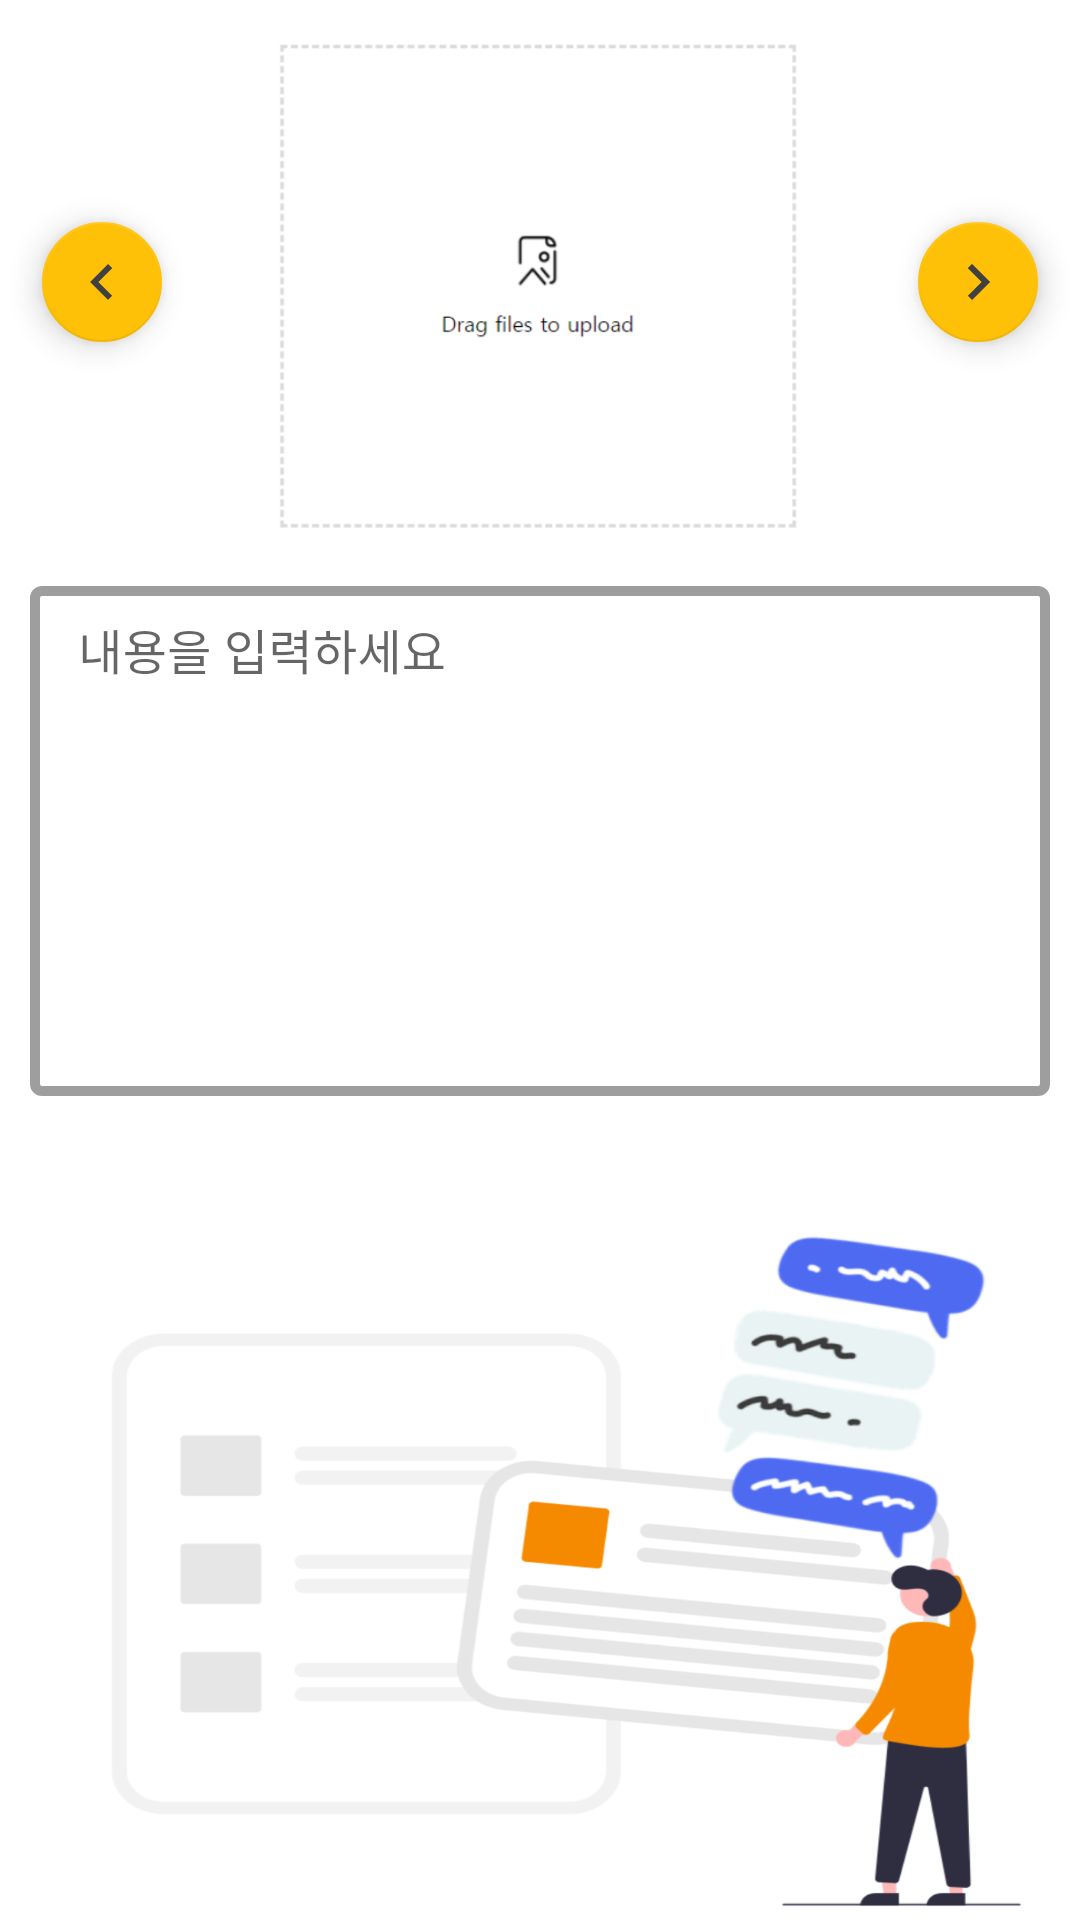

Screen size 1080×1920. Icon name, then its box in pixels as [x1=x1, y1=y1, x2=x2, y2=y2]:
left: [x1=40, y1=222, x2=162, y2=343]
right: [x1=918, y1=222, x2=1040, y2=343]
